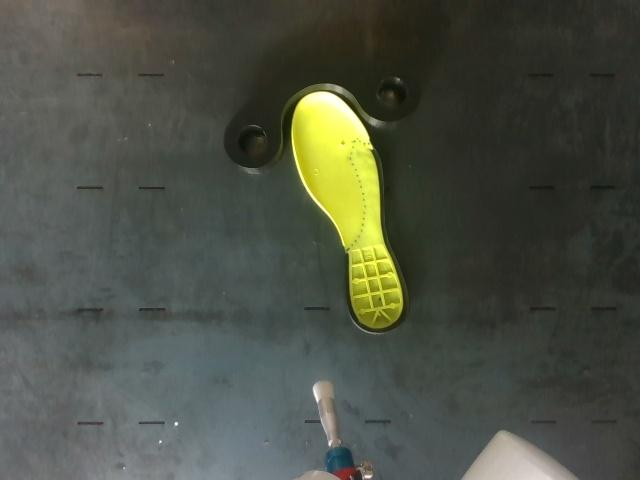shoes: (291, 92, 409, 333)
